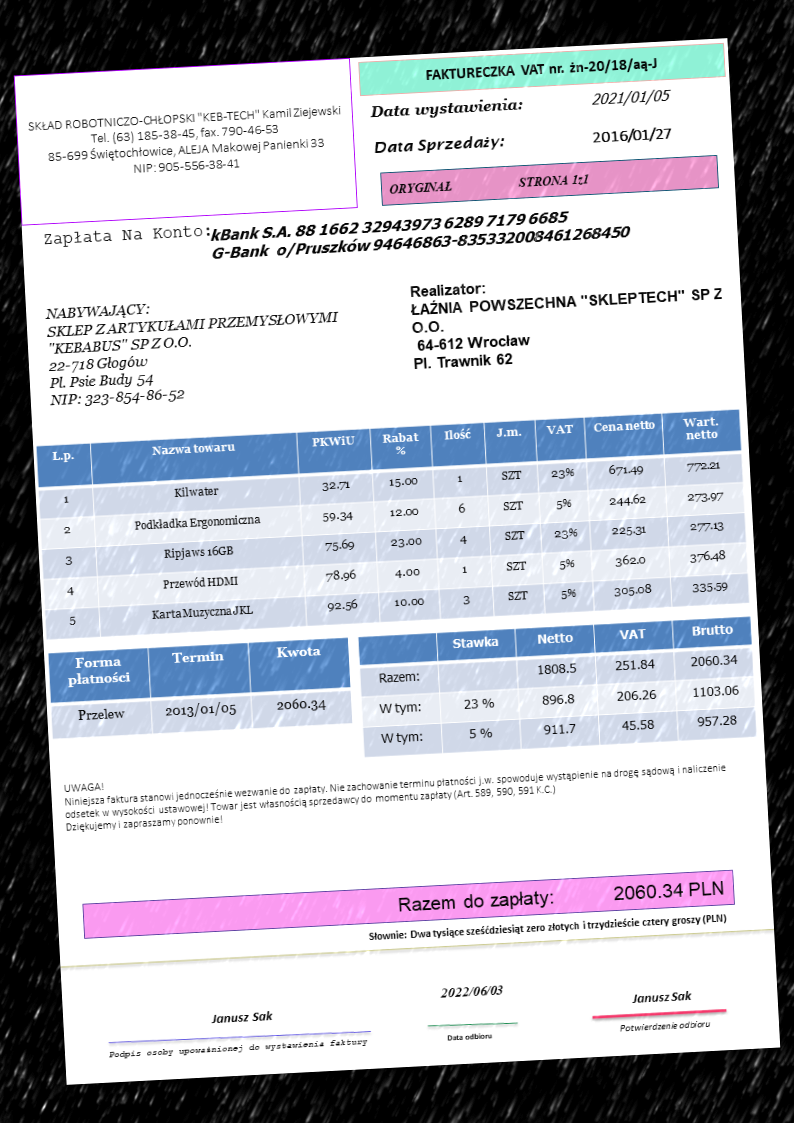Table: (34, 406, 751, 643), (357, 614, 760, 760), (47, 635, 352, 740)
TextBox: (62, 747, 730, 834), (43, 289, 346, 413), (406, 268, 731, 376), (25, 100, 348, 187), (209, 206, 634, 263), (396, 877, 726, 916), (366, 910, 731, 945), (421, 52, 660, 86), (104, 1037, 369, 1062), (387, 171, 593, 199), (368, 94, 523, 126), (41, 222, 213, 249), (369, 132, 507, 160), (589, 85, 673, 111), (590, 123, 673, 146), (207, 1006, 275, 1029), (617, 1019, 714, 1034), (437, 983, 506, 1001), (629, 989, 694, 1006), (443, 1030, 496, 1044)
